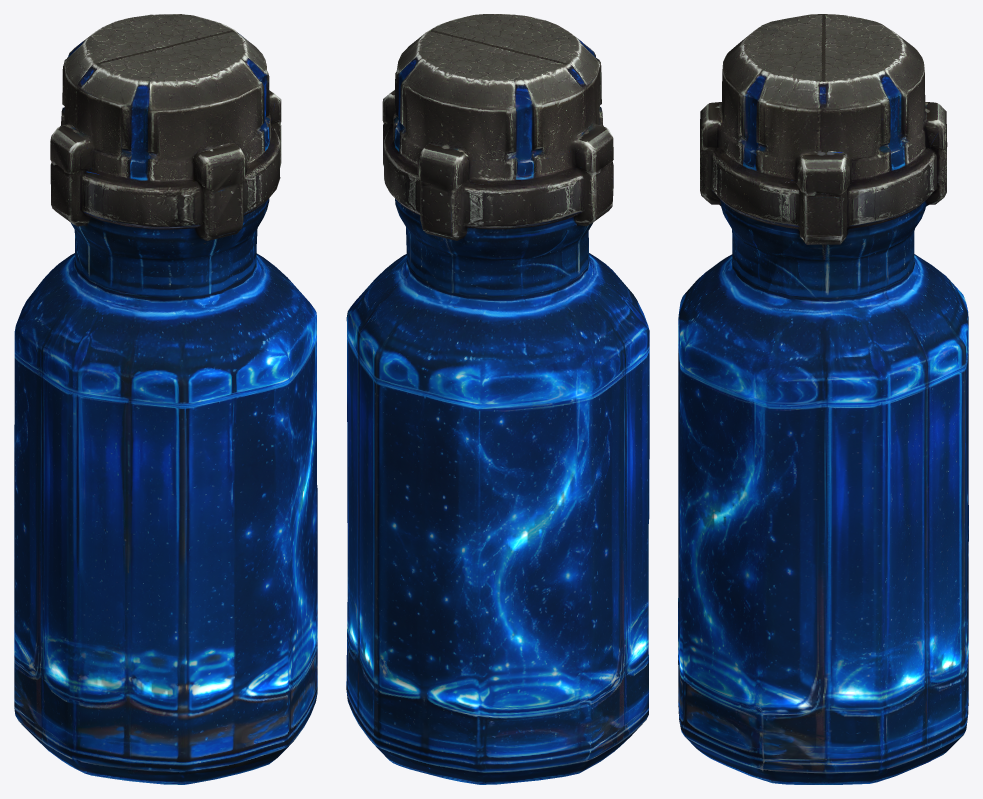
Rendered from Meshy_AI_Nebula_Elixir_0601022736_texture.glb.
3 views of the same model, side by side, from view 1: azimuth 30°, elevation 25°; view 2: azimuth 150°, elevation 25°; view 3: azimuth 270°, elevation 25° (orthographic).
Visible parts, largest first — view 1: Mesh_0; view 2: Mesh_0; view 3: Mesh_0.
Part boxes in pixels (x1,y1,x2,y2): Mesh_0: (14, 14, 317, 784); Mesh_0: (346, 14, 649, 784); Mesh_0: (678, 14, 968, 784).
Bounding box in the file's own units: 0.7348 × 1.91 × 0.7345.
Materials: 1 (1 with a texture image).
